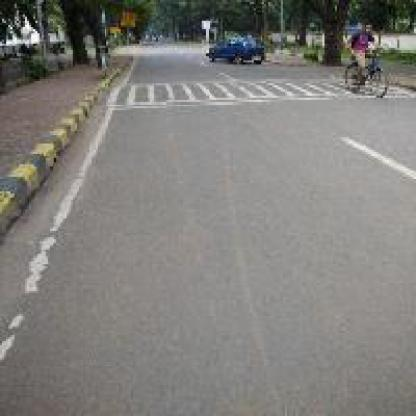Speed Bump: (108, 80, 335, 109)
